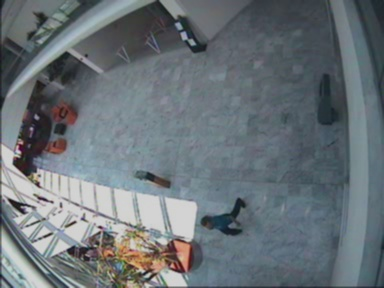person: (200, 198, 246, 236)
